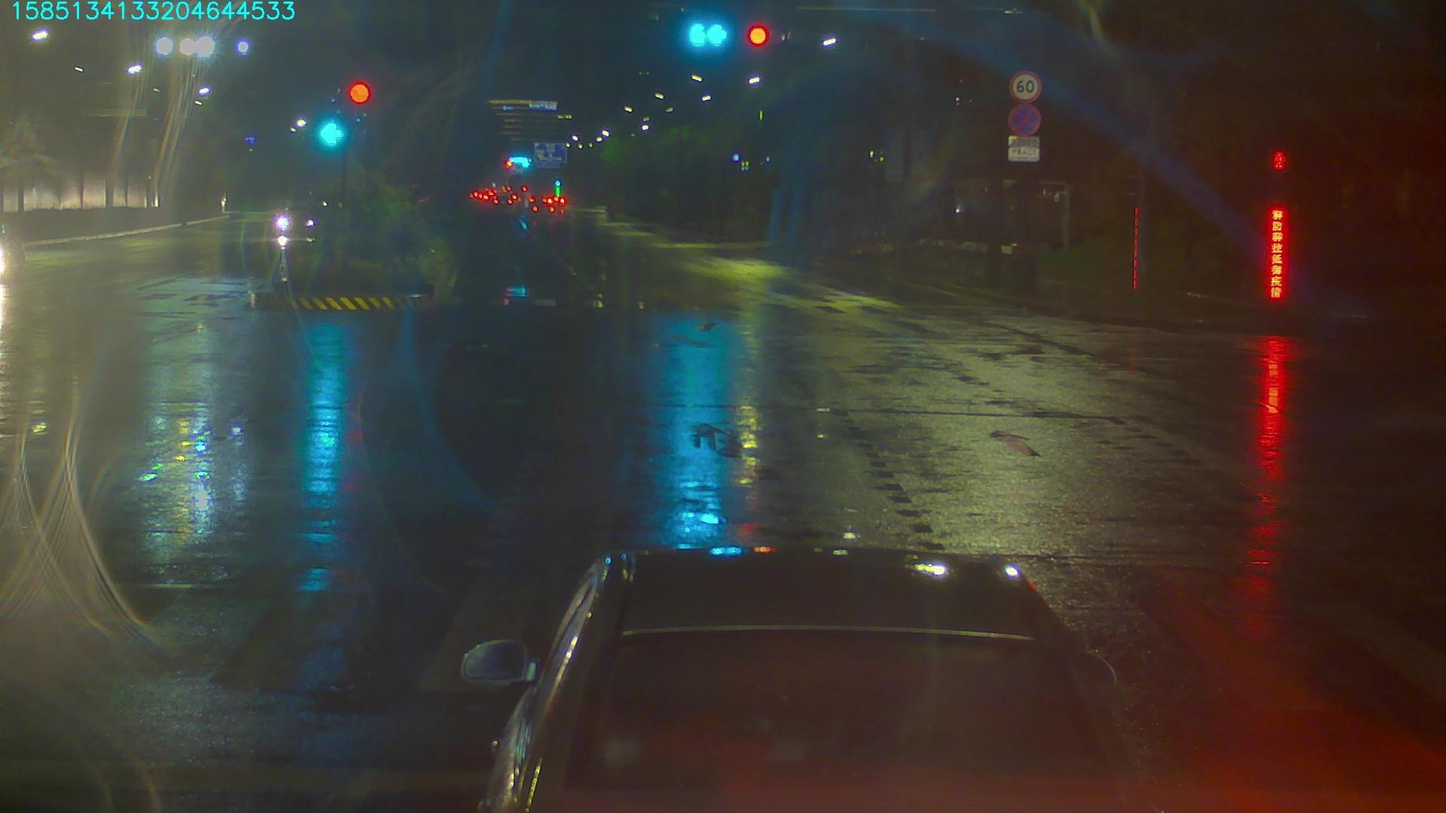green: (689, 18, 729, 51)
red: (747, 25, 768, 56)
